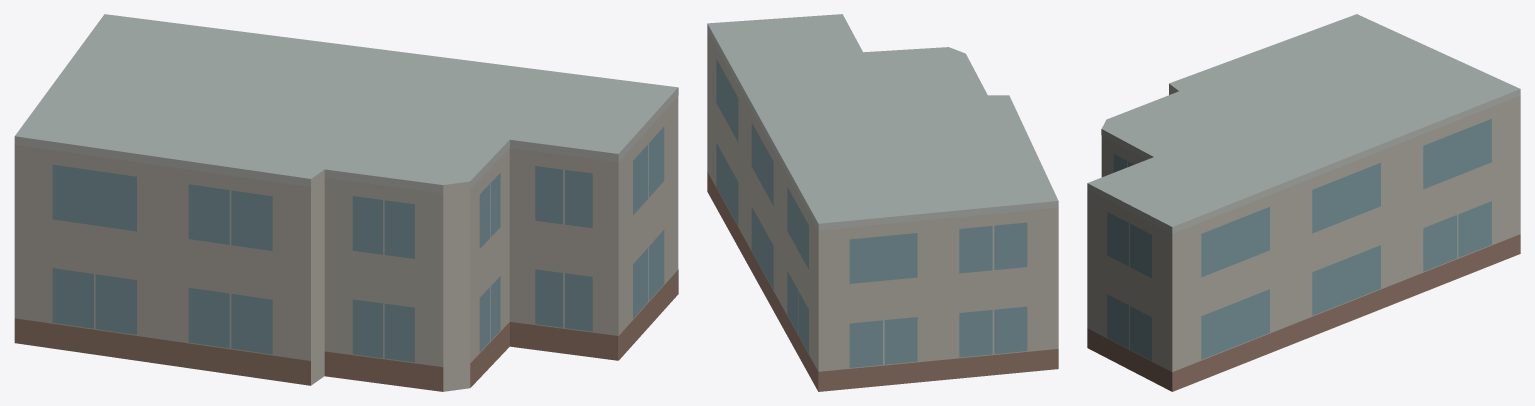
File: survey-upis-32685045.glb
The picture shows the model from 3 angles, left to right: view 1: azimuth 30°, elevation 25°; view 2: azimuth 150°, elevation 25°; view 3: azimuth 270°, elevation 25°; orthographic projection. The views are drawn at different scales.
Parts seen in each view (by area): view 1: survey-upis-32685045.tmp; view 2: survey-upis-32685045.tmp; view 3: survey-upis-32685045.tmp.
Part boxes in pixels (left/top/right/bottom): survey-upis-32685045.tmp: left=14, top=14, right=678, bottom=391; survey-upis-32685045.tmp: left=707, top=14, right=1058, bottom=391; survey-upis-32685045.tmp: left=1087, top=14, right=1520, bottom=391.
Size of the model in its own units: 16.92 by 6.1 by 14.54.
